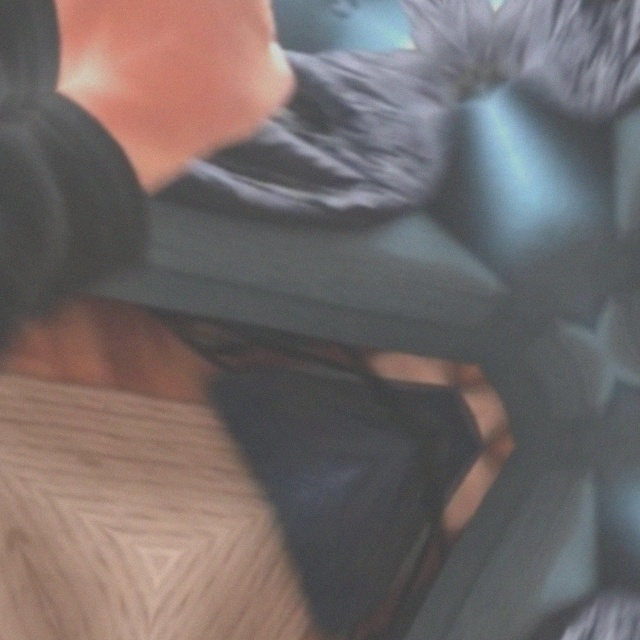Scissors: (2, 0, 340, 87)
